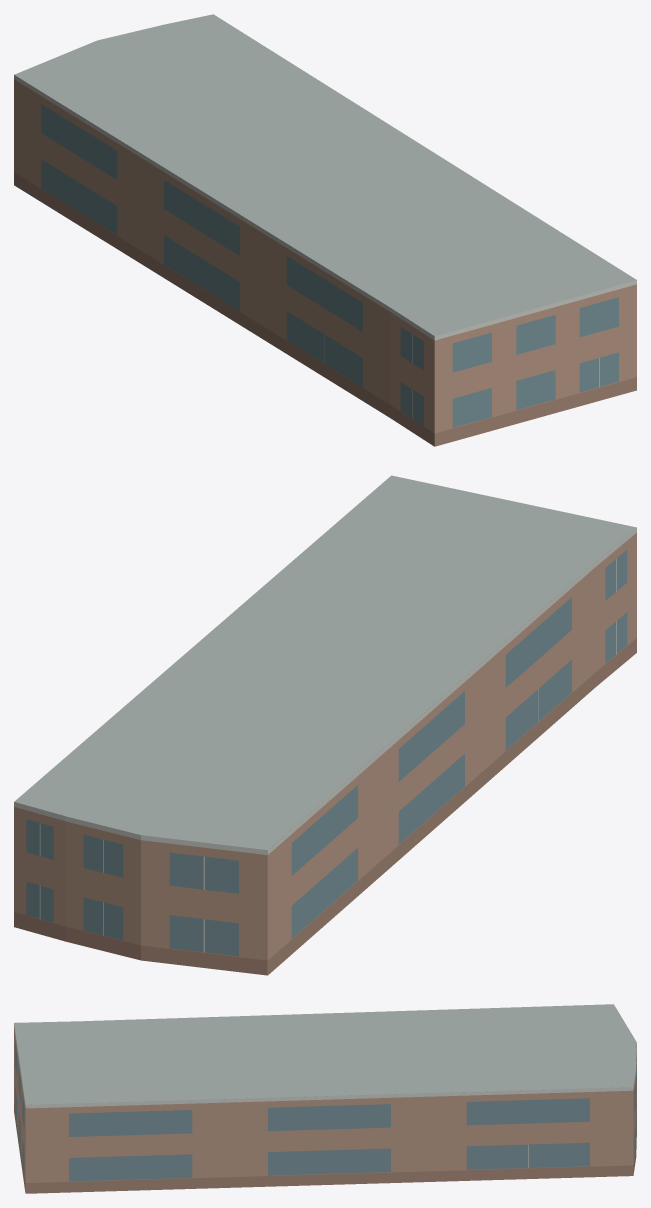
File: survey-upis-32474723.glb
3 renders of one model, top to bottom at view 1: azimuth 30°, elevation 25°; view 2: azimuth 150°, elevation 25°; view 3: azimuth 270°, elevation 25°, orthographic. The views are drawn at different scales.
Parts seen in each view (by area): view 1: survey-upis-32474723.tmp; view 2: survey-upis-32474723.tmp; view 3: survey-upis-32474723.tmp.
Part boxes in pixels (left/top/right/bottom): survey-upis-32474723.tmp: left=14, top=14, right=636, bottom=446; survey-upis-32474723.tmp: left=14, top=475, right=636, bottom=975; survey-upis-32474723.tmp: left=14, top=1004, right=636, bottom=1193.
Bounding box in the file's own units: 14.85 × 6.1 × 38.78.
